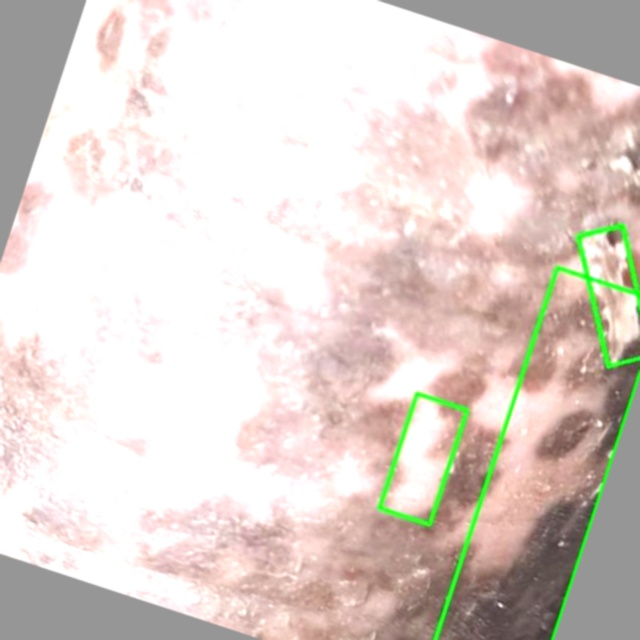Eczema: (435, 267, 639, 639), (379, 393, 467, 524), (577, 225, 639, 367)
